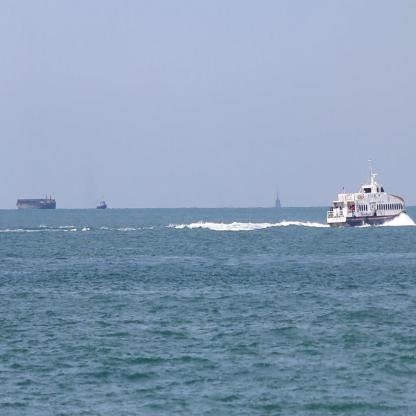Container Ship: (15, 192, 57, 211), (93, 191, 108, 210)
